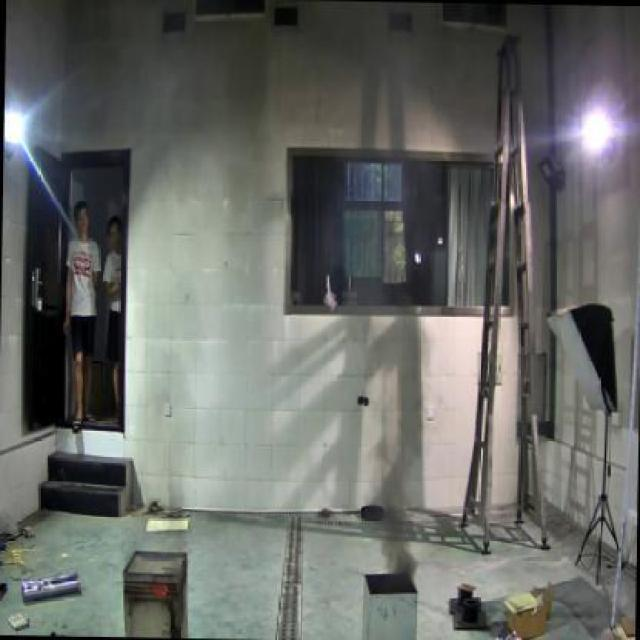fire: (370, 433, 422, 572)
